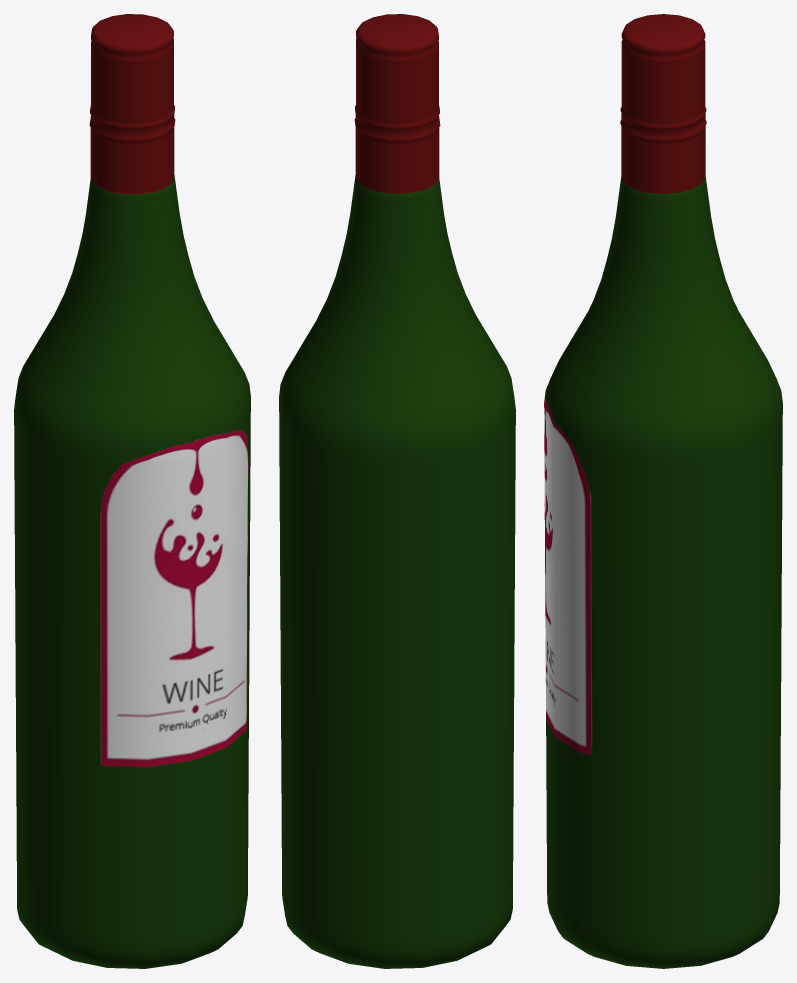
File: Wine 1.FBX
3 renders of one model, left to right at view 1: azimuth 30°, elevation 25°; view 2: azimuth 150°, elevation 25°; view 3: azimuth 270°, elevation 25°, orthographic.
Parts seen in each view (by area): view 1: Wine 1; view 2: Wine 1; view 3: Wine 1.
Boxes of the visible parts, x1=… form: Wine 1: x1=14, y1=14, x2=250, y2=968; Wine 1: x1=279, y1=14, x2=515, y2=968; Wine 1: x1=544, y1=14, x2=782, y2=968.
Bounding box in the file's own units: 7.97 × 33.11 × 7.97.
1 material, 1 textured.
